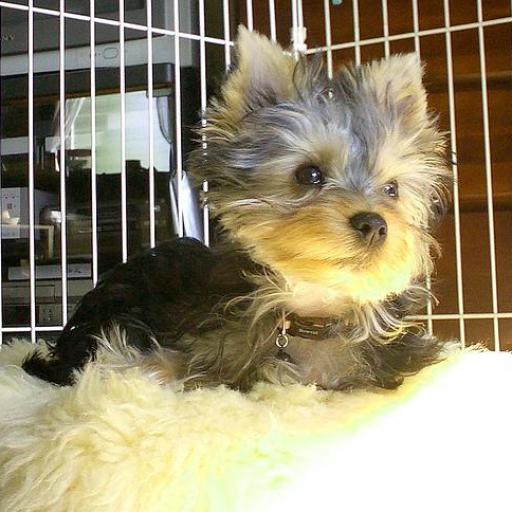dog_face: (210, 38, 434, 293)
